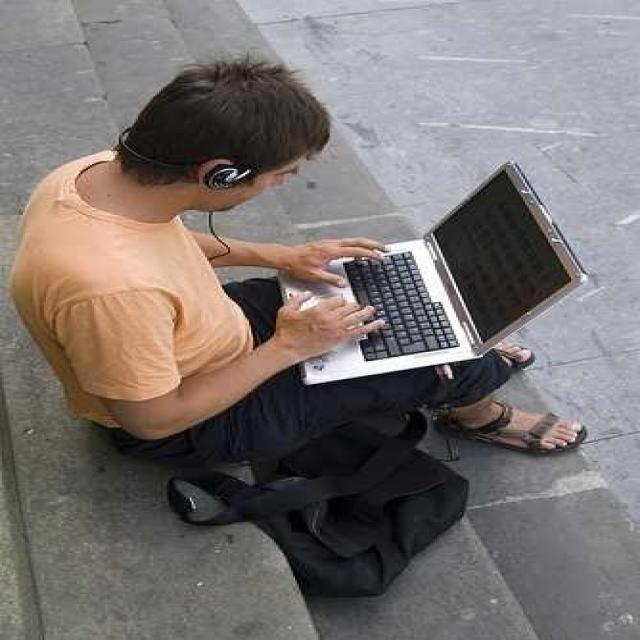laptop: (292, 191, 604, 379)
